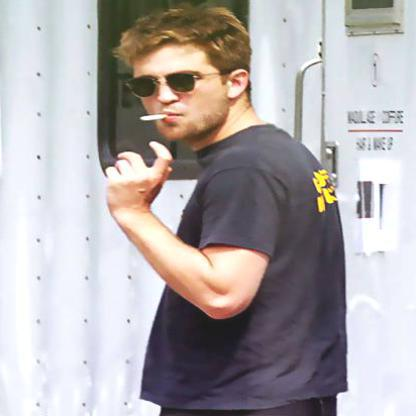cigarette: (136, 113, 167, 123)
person: (112, 13, 353, 415)
